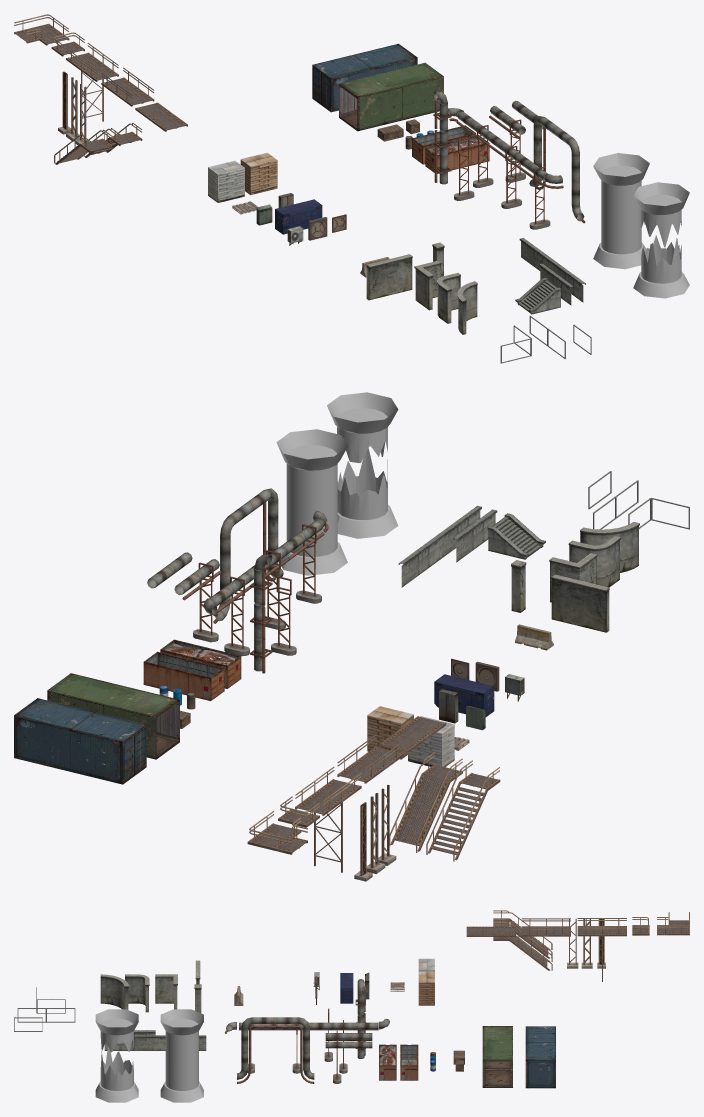
The model's file is Assets.fbx.
3 views of the same model, one above another, from view 1: azimuth 30°, elevation 25°; view 2: azimuth 150°, elevation 25°; view 3: azimuth 270°, elevation 25° (orthographic). The views are drawn at different scales.
Visible parts, largest first — view 1: S_Cargo_1_open, S_Pod, S_PodBroken, S_Cargo_1_close, S_Pipes_horizontal_long, S_Wall, S_Pipes_arch, S_Bags_2, S_Cargo_2_full, S_Bags_1, S_Bridges_3, S_Generator (+14 smaller); view 2: S_Cargo_1_close, S_Pod, S_PodBroken, S_Cargo_1_open, S_Pipes_horizontal_long, S_Bridges_stairs_2, S_Cargo_2_empty, S_Wall, S_Bridges_stairs_1, S_Pipes_arch, S_Bridges_3, S_Concrete_miniwall_long (+17 smaller); view 3: S_Pod, S_PodBroken, S_Cargo_1_close, S_Cargo_1_open, S_Pipes_arch, S_Pipes_horizontal_long, S_Wall_corner_3, S_Concrete_miniwall_long, S_Bridges_2, S_Bridges_3, S_Wall_corner_1, S_Cargo_2_empty (+10 smaller).
Boxes of the visible parts, x1,y1,x2,y2 form: S_Cargo_1_open: (339,62,443,131); S_Pod: (593,153,649,269); S_PodBroken: (633,182,689,298); S_Cargo_1_close: (312,43,417,112); S_Pipes_horizontal_long: (456,111,550,229); S_Wall: (366,254,412,300); S_Pipes_arch: (529,116,585,223); S_Bags_2: (208,160,244,202); S_Cargo_2_full: (425,135,489,173); S_Bags_1: (240,152,277,195); S_Bridges_3: (66,43,118,121); S_Generator: (275,199,322,234); S_Cargo_1_close: (14,698,146,784); S_Pod: (276,429,347,575); S_PodBroken: (327,392,398,538); S_Cargo_1_open: (47,673,179,759); S_Pipes_horizontal_long: (210,520,324,656); S_Bridges_stairs_2: (389,752,462,852); S_Cargo_2_empty: (143,651,224,700); S_Wall: (551,574,609,632); S_Bridges_stairs_1: (426,760,500,861); S_Pipes_arch: (213,488,283,623); S_Bridges_3: (295,766,361,872); S_Concrete_miniwall_long: (398,505,481,587); S_Pod: (160,1009,203,1102); S_PodBroken: (95,1009,138,1102); S_Cargo_1_close: (525,1026,555,1088); S_Cargo_1_open: (482,1026,512,1087); S_Pipes_arch: (237,1017,314,1083); S_Pipes_horizontal_long: (239,1020,378,1073); S_Wall_corner_3: (100,974,128,1009); S_Concrete_miniwall_long: (104,1035,206,1050); S_Bridges_2: (521,918,570,936); S_Bridges_3: (577,918,626,981); S_Wall_corner_1: (155,974,177,1009); S_Cargo_2_empty: (400,1044,418,1080).
Size of the model in its own units: 12.54 by 3.42 by 24.85.
